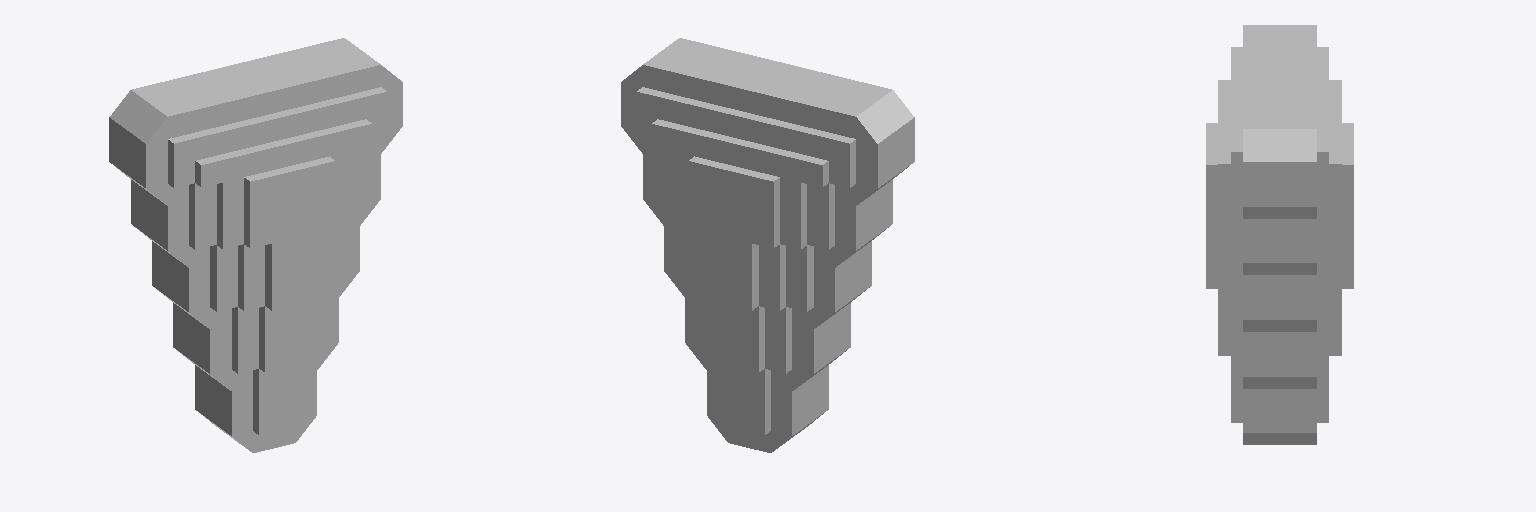
The model's file is Stalagtite.obj.
3 renders of one model, left to right at view 1: azimuth 30°, elevation 25°; view 2: azimuth 150°, elevation 25°; view 3: azimuth 270°, elevation 25°, orthographic.
Size of the model in its own units: 12 by 16 by 6.